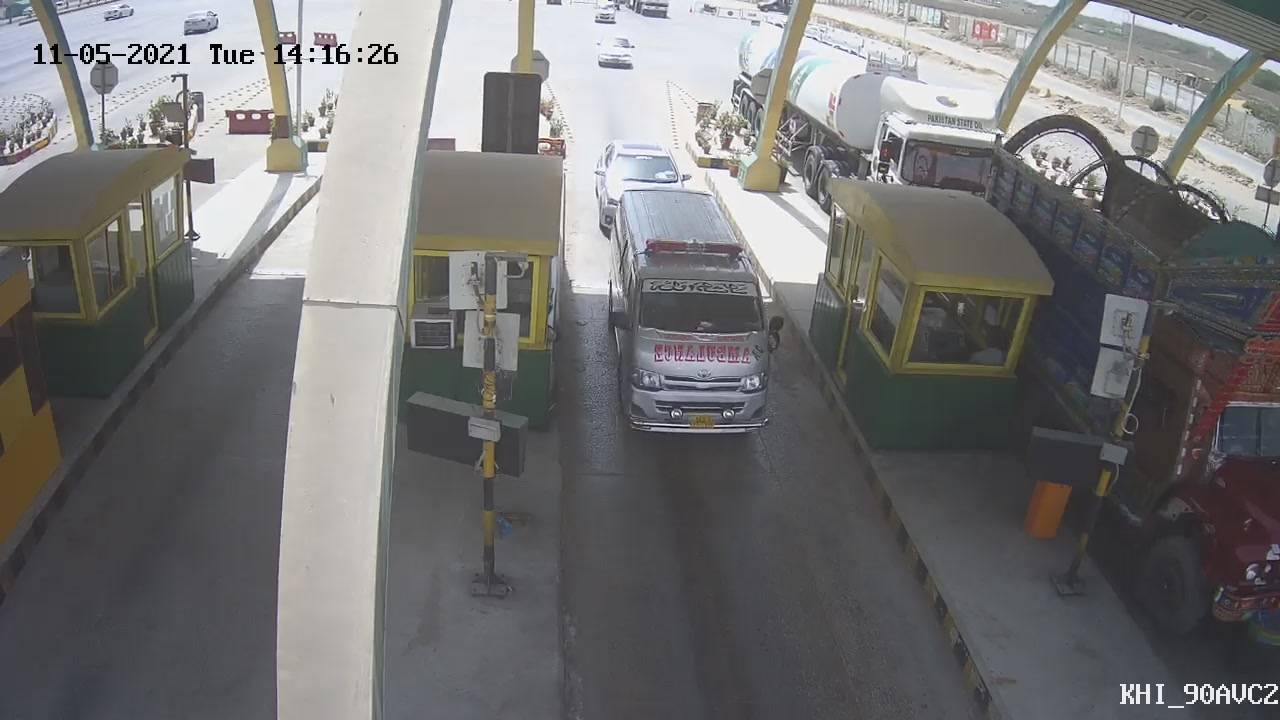F2: (598, 182, 784, 449)
